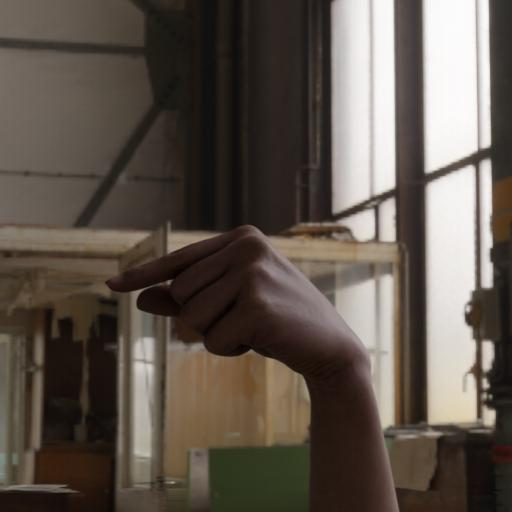G: (104, 220, 372, 370)
